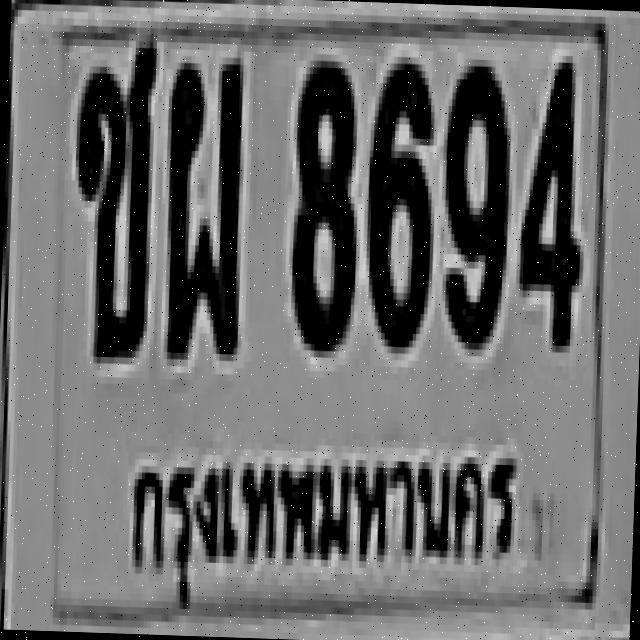19ChorChang: (66, 28, 159, 366)
37PhorPhueng: (160, 55, 250, 364)
4: (513, 58, 586, 350)
6: (362, 55, 436, 347)
8: (286, 52, 363, 354)
9: (438, 59, 512, 344)
Bangkok: (111, 405, 527, 623)
